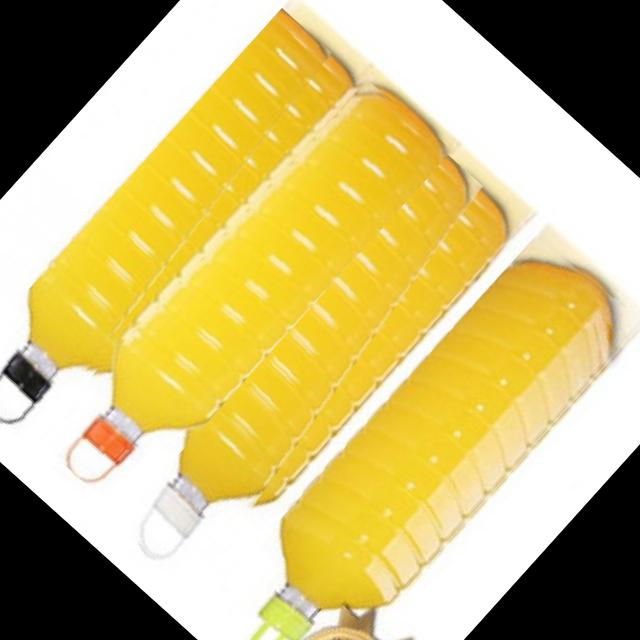plastic bottle: (102, 143, 523, 592), (34, 69, 452, 515), (199, 227, 640, 640), (0, 6, 358, 445)
